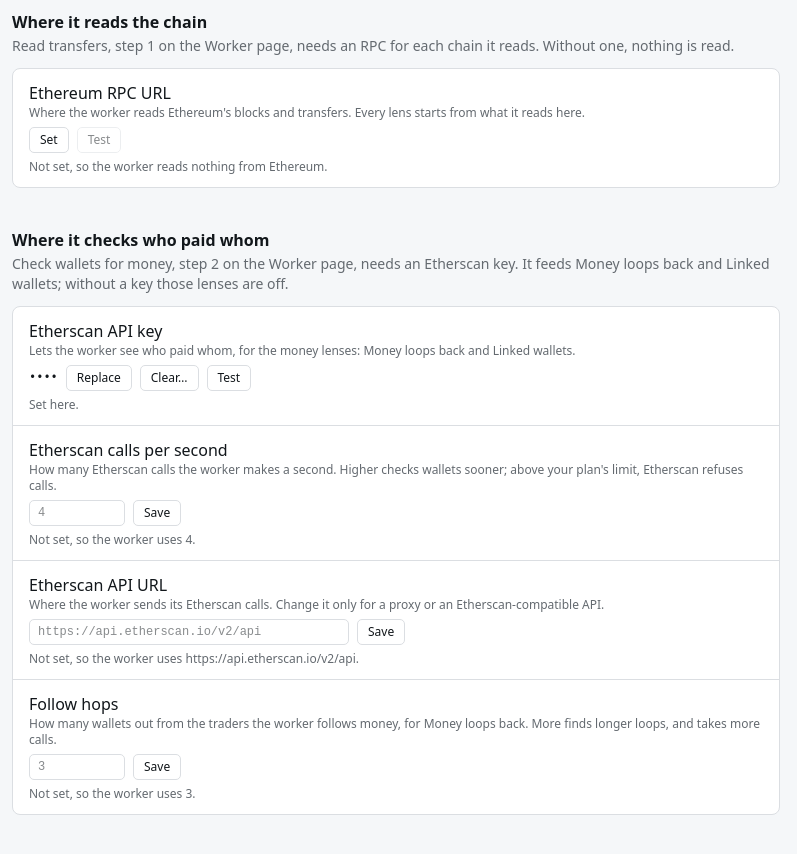
Test: Settings, Test › says Etherscan answered
The width and height of the screenshot is (797, 854).
What coordinates should you click on to do the following:
click the button "Test" below "Etherscan API key"
I would click on:
 (229, 378)
Its box is x1=206 y1=365 x2=251 y2=391.
Wait 500 ms
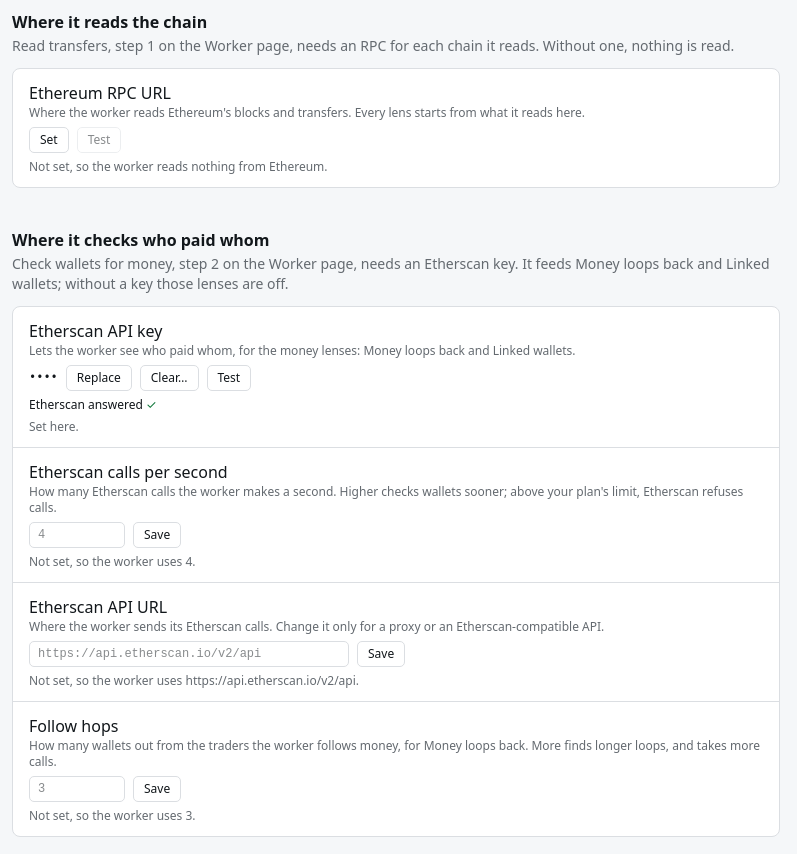
Check: the message "Etherscan answered ✓" is shown, box x1=29 y1=396 x2=157 y2=413
